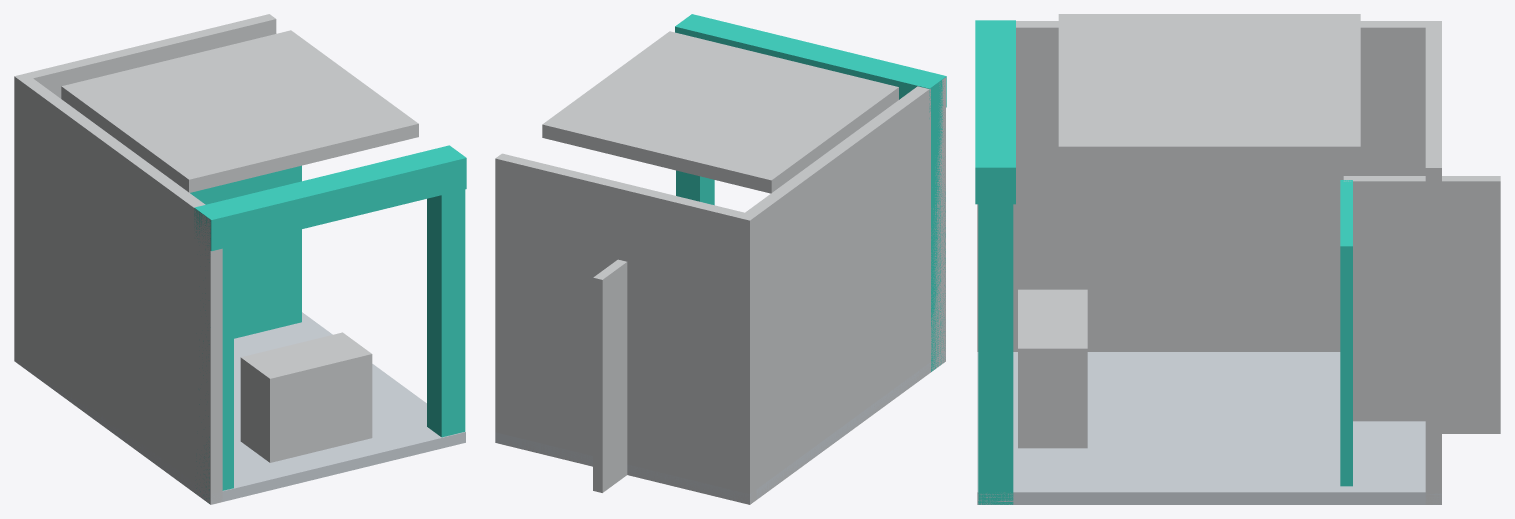
The picture shows the model from 3 angles, left to right: view 1: azimuth 30°, elevation 25°; view 2: azimuth 150°, elevation 25°; view 3: azimuth 270°, elevation 25°; orthographic projection. The views are drawn at different scales.
Visible parts, largest first — view 1: Exhibition Booth Concept; view 2: Exhibition Booth Concept; view 3: Exhibition Booth Concept.
Boxes of the visible parts, bbox=[...] form: Exhibition Booth Concept: bbox=[14, 14, 466, 504]; Exhibition Booth Concept: bbox=[495, 14, 946, 504]; Exhibition Booth Concept: bbox=[975, 14, 1500, 504].
Size of the model in its own units: 3 by 3.34 by 4.52.
